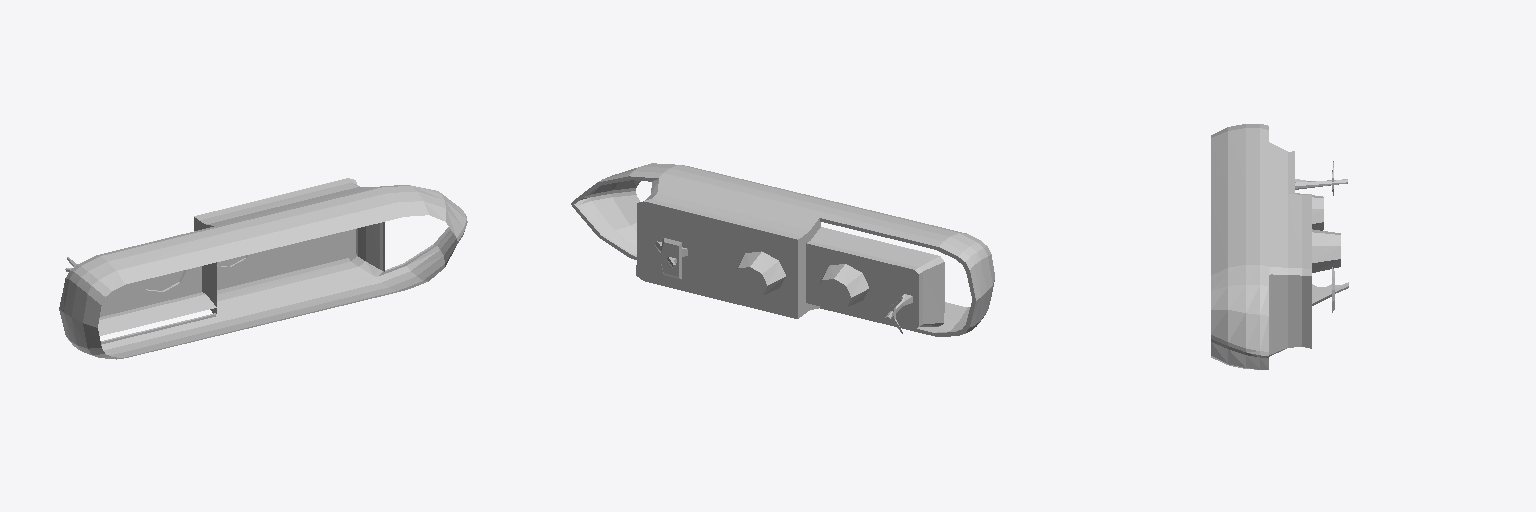
Rendered from polygon202.obj.
The picture shows the model from 3 angles: view 1: azimuth 30°, elevation 25°; view 2: azimuth 150°, elevation 25°; view 3: azimuth 270°, elevation 25°; orthographic projection.
Visible parts, largest first — view 1: polygon202; view 2: polygon202; view 3: polygon202.
Part boxes in pixels (left/top/right/bottom): polygon202: left=59, top=178, right=467, bottom=359; polygon202: left=571, top=163, right=994, bottom=336; polygon202: left=1211, top=124, right=1348, bottom=369.
Bounding box in the file's own units: 859 × 193 × 255.